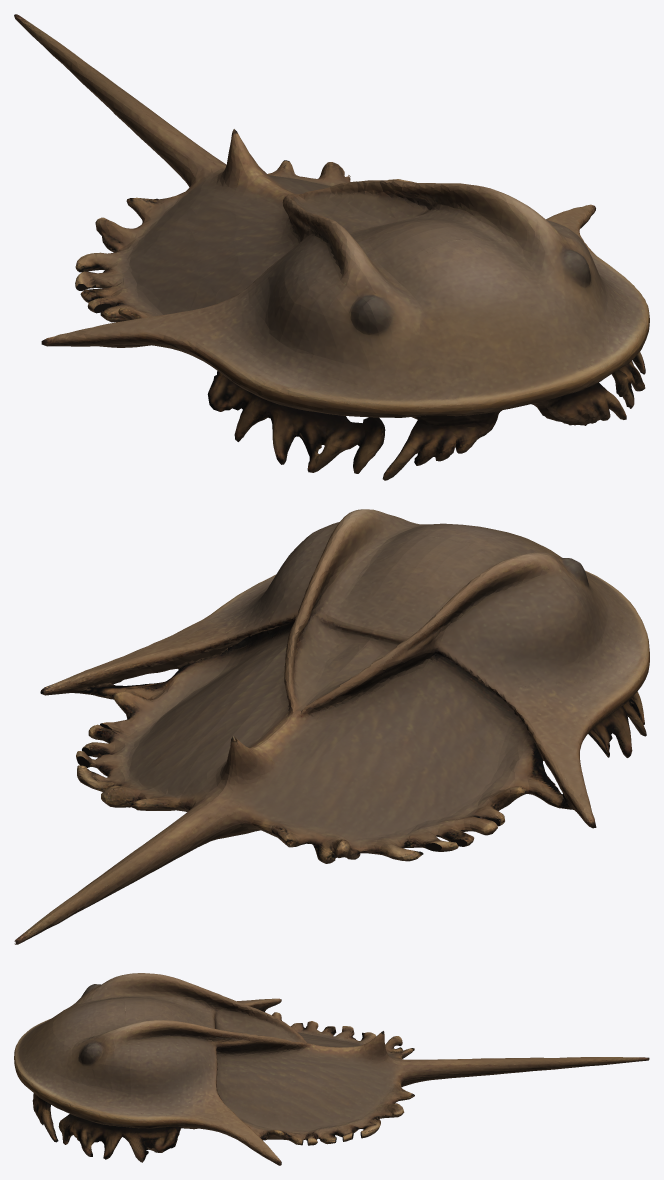
3 renders of one model, top to bottom at view 1: azimuth 30°, elevation 25°; view 2: azimuth 150°, elevation 25°; view 3: azimuth 270°, elevation 25°, orthographic. The views are drawn at different scales.
Parts seen in each view (by area): view 1: world; view 2: world; view 3: world.
Boxes of the visible parts, x1,y1,x2,y2 form: world: (14,14,649,480); world: (14,509,649,944); world: (14,973,649,1165).
Size of the model in its own units: 0.0126 by 0.00393 by 0.0206.
1 material, 1 textured.
